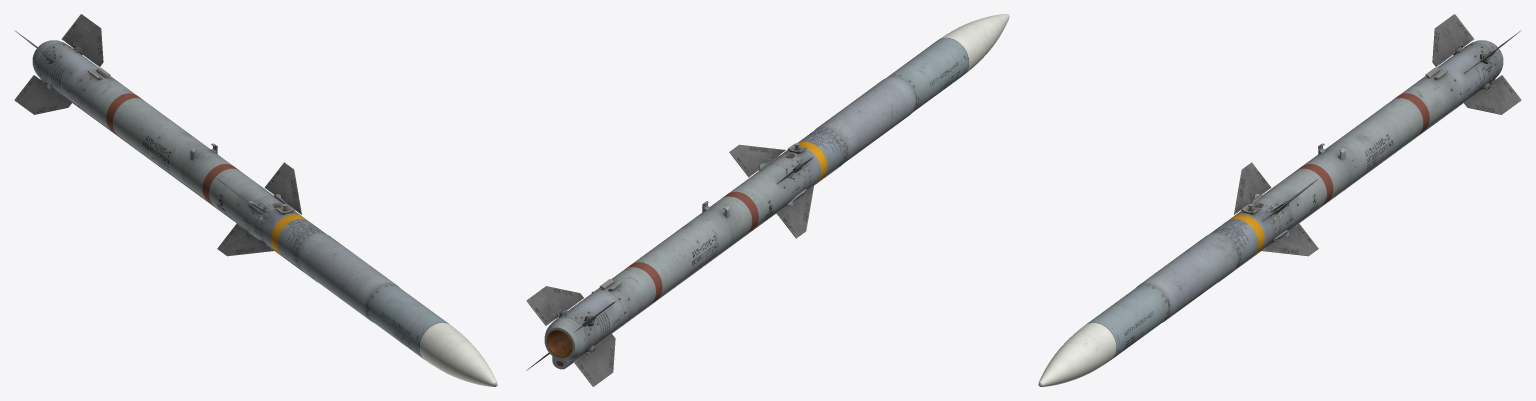
Rendered from aim-120c_amraam.glb.
3 views of the same model, side by side, from view 1: azimuth 30°, elevation 25°; view 2: azimuth 150°, elevation 25°; view 3: azimuth 330°, elevation 25° (orthographic).
Visible parts, largest first — view 1: Object_2; view 2: Object_2; view 3: Object_2.
Part boxes in pixels (bbox=[...]): Object_2: bbox=[14, 14, 497, 386]; Object_2: bbox=[526, 14, 1009, 386]; Object_2: bbox=[1038, 14, 1521, 386].
Size of the model in its own units: 0.318 by 0.318 by 3.66.
Materials: 1 (1 with a texture image).
